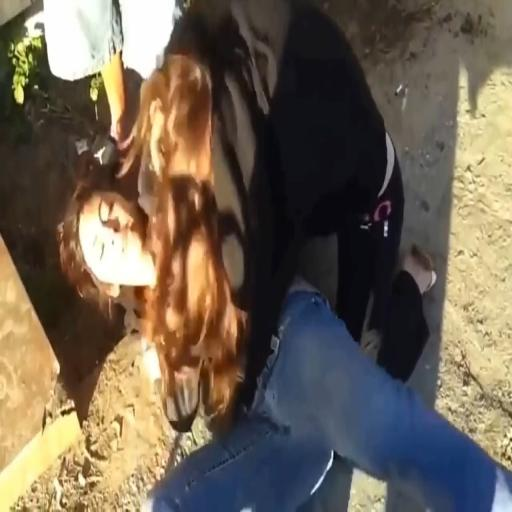violencia: (49, 3, 512, 512)
